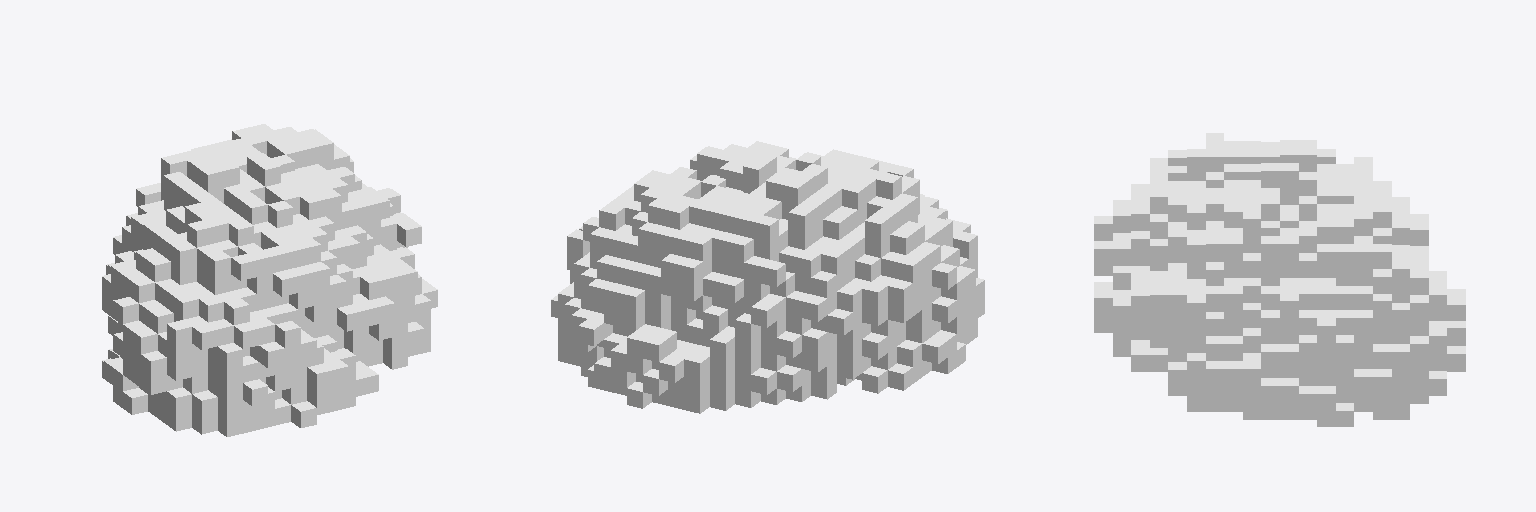
Rendered from L6Rock_01.obj.
The picture shows the model from 3 angles: view 1: azimuth 30°, elevation 25°; view 2: azimuth 150°, elevation 25°; view 3: azimuth 270°, elevation 25°; orthographic projection.
Bounding box in the file's own units: 20 × 11 × 20.